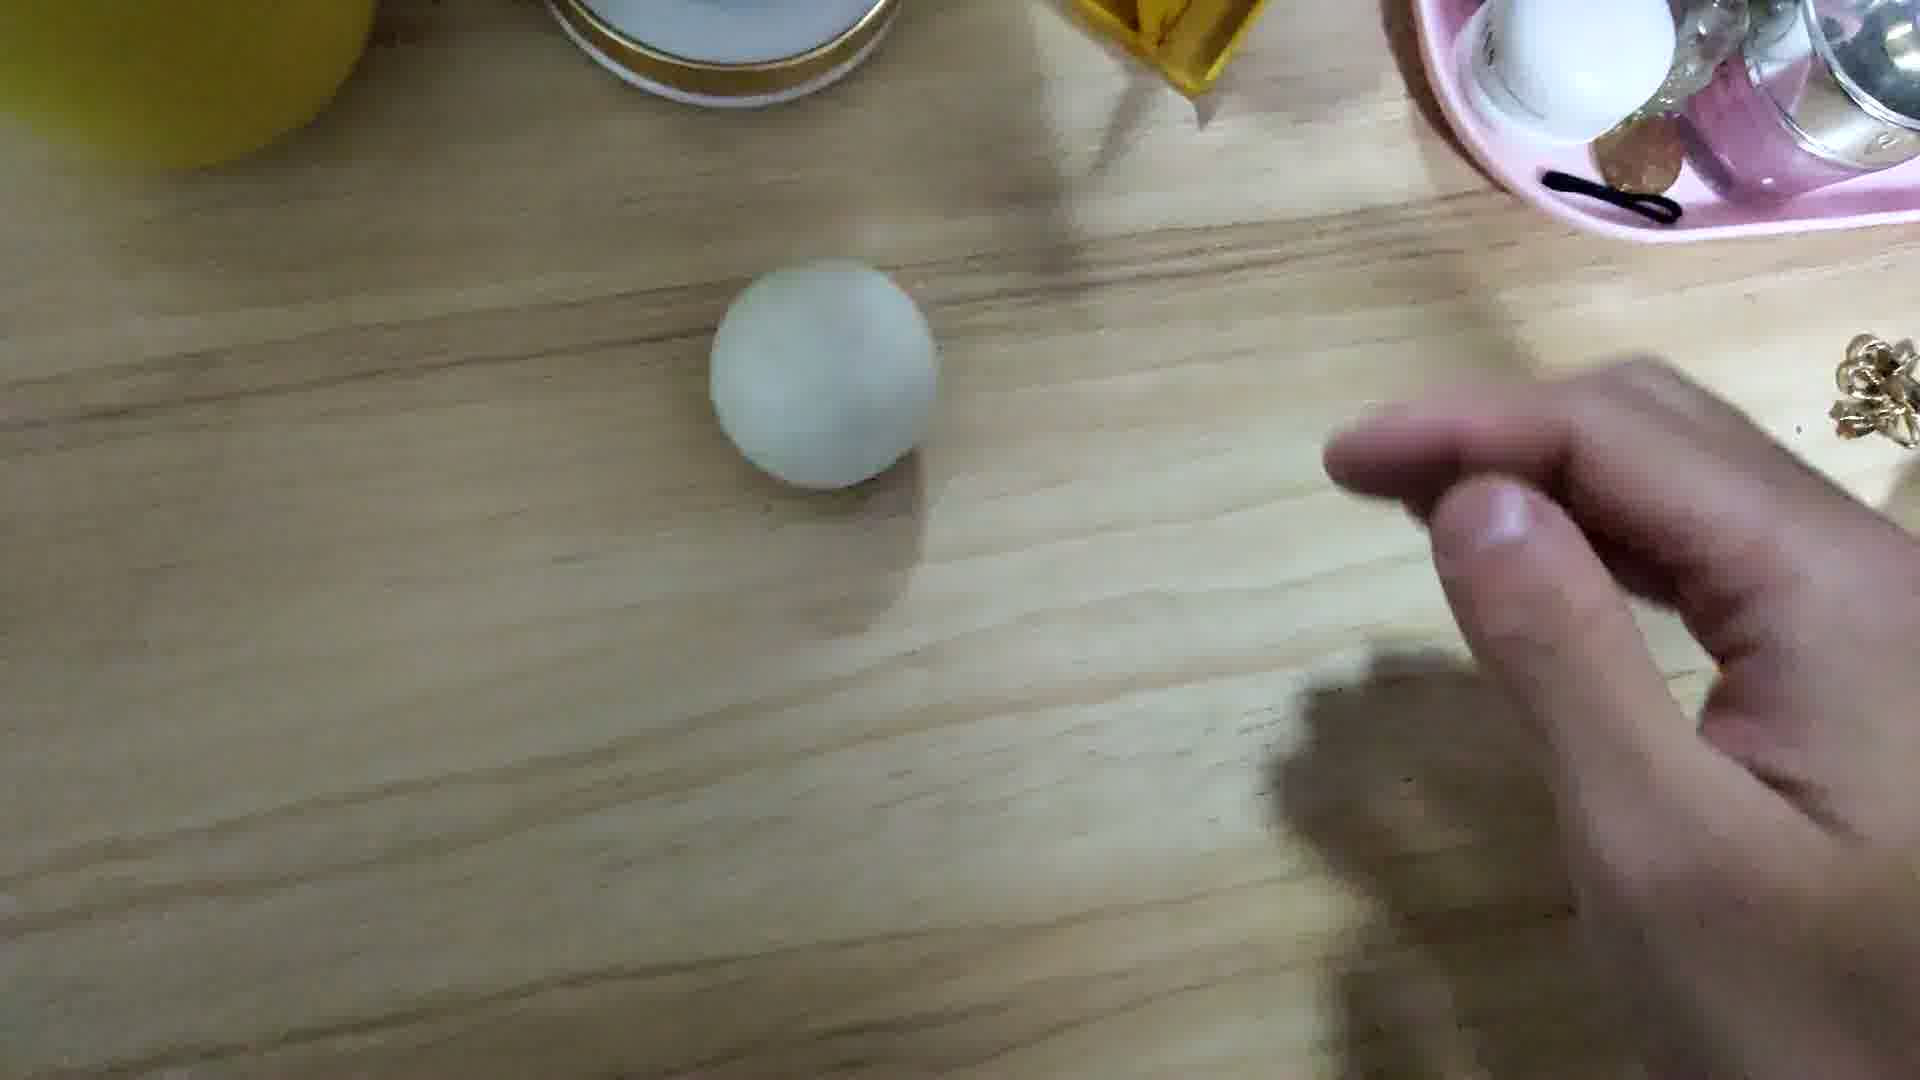Ball: (712, 256, 938, 491)
